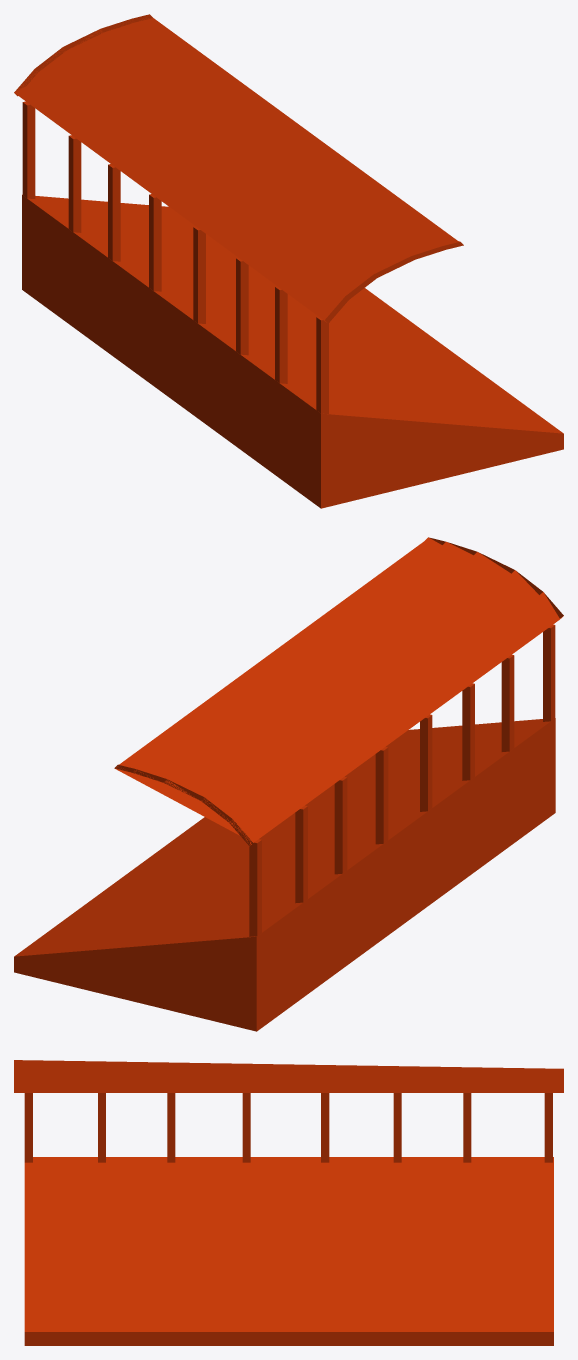
The model's file is stadium.obj.
3 views of the same model, one above another, from view 1: azimuth 30°, elevation 25°; view 2: azimuth 150°, elevation 25°; view 3: azimuth 270°, elevation 25° (orthographic). The views are drawn at different scales.
Visible parts, largest first — view 1: Cube; view 2: Cube; view 3: Cube.
Boxes of the visible parts, x1,y1,x2,y2 form: Cube: (14, 14, 563, 508); Cube: (14, 537, 563, 1031); Cube: (14, 1060, 563, 1345).
Size of the model in its own units: 162 by 150 by 355.
